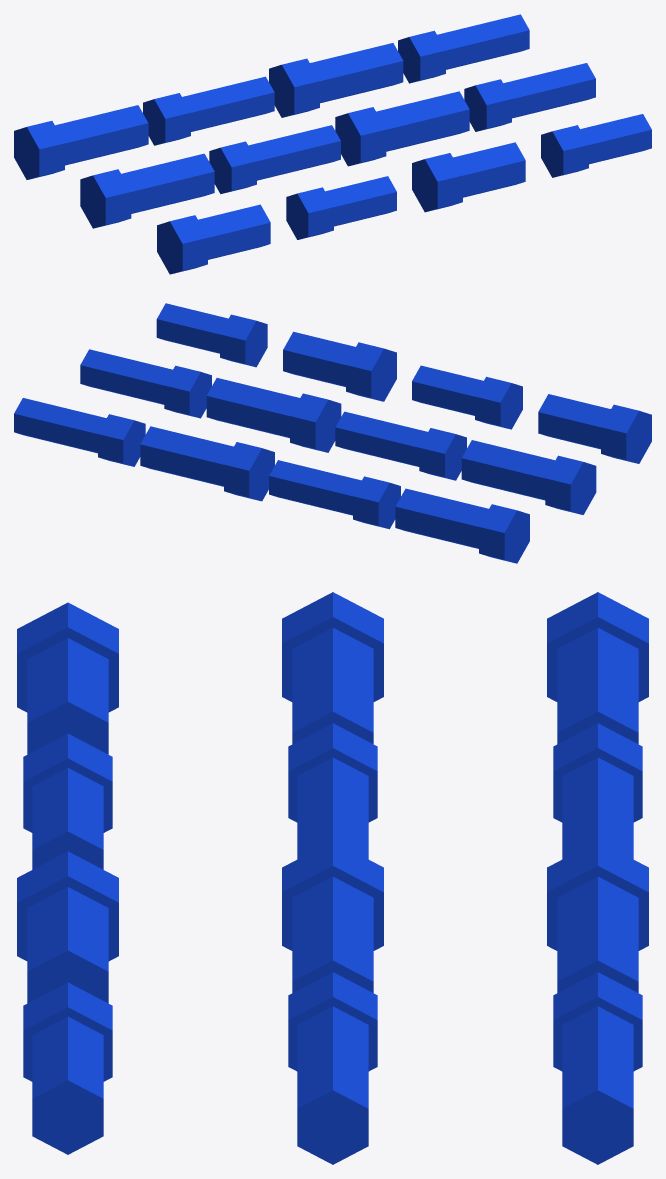
Rendered from bolts.obj.
The picture shows the model from 3 angles, top to bottom: view 1: azimuth 30°, elevation 25°; view 2: azimuth 150°, elevation 25°; view 3: azimuth 270°, elevation 25°; orthographic projection. The views are drawn at different scales.
Visible parts, largest first — view 1: bolts; view 2: bolts; view 3: bolts.
Boxes of the visible parts, <box> form: bolts: <box>14,14,651,274</box>; bolts: <box>14,303,651,563</box>; bolts: <box>17,592,648,1164</box>.
Bounding box in the file's own units: 0.1938 × 0.02 × 0.1073.
